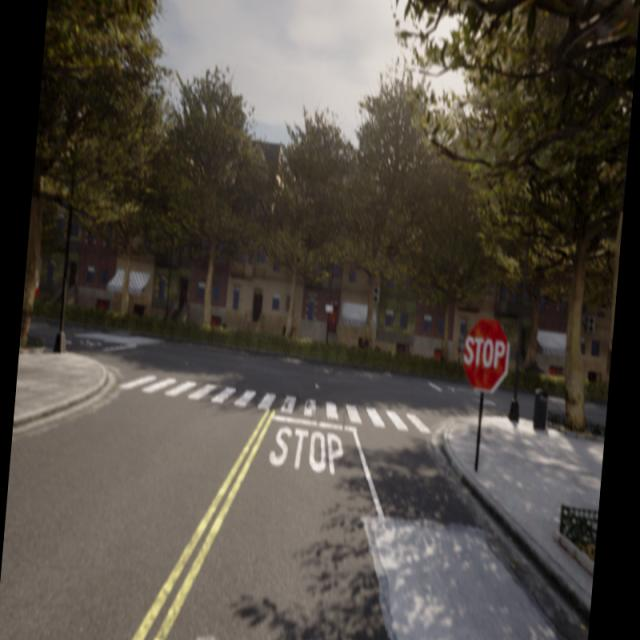stop sign: (460, 314, 511, 396), (462, 334, 507, 370)
